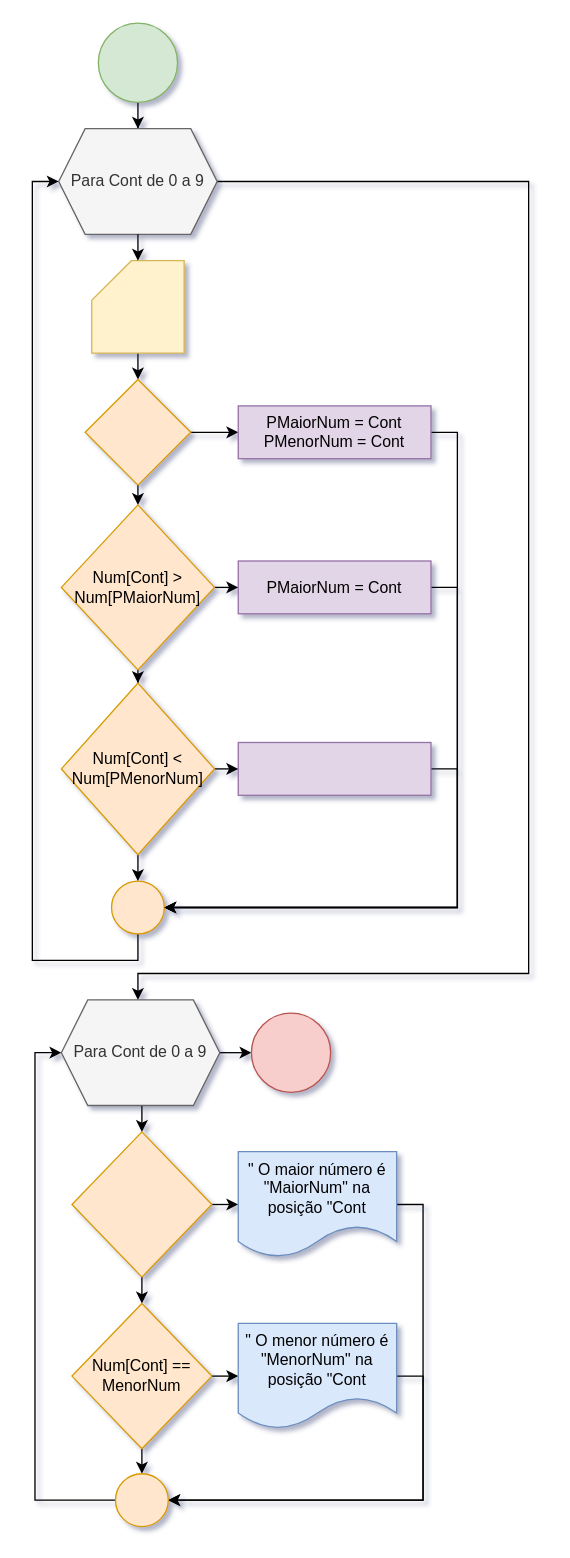
This 570x1558 diagram has some shape labels left out. Here are the shapes that lost their labels. From the top down, the centre of each, then its label:
At point 137,306: "Num[Cont]".
At point 137,431: "Cont == 0".
At point 334,768: "PMenorNum = Cont".
At point 141,1204: "Num[Cont] == MaiorNum".
